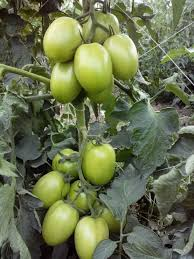tomato: (72, 41, 114, 94), (41, 15, 82, 62), (40, 200, 79, 249), (105, 31, 139, 80), (48, 60, 81, 108), (74, 214, 109, 259), (81, 141, 115, 186), (32, 170, 69, 206)
